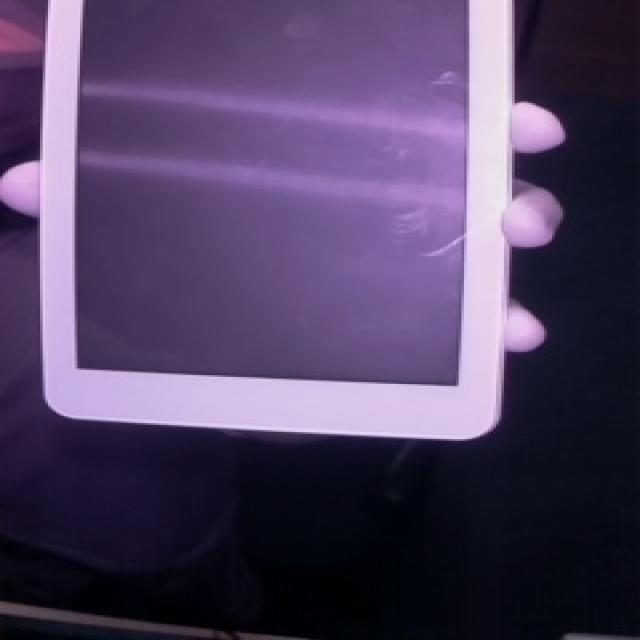phone: (21, 0, 526, 459)
